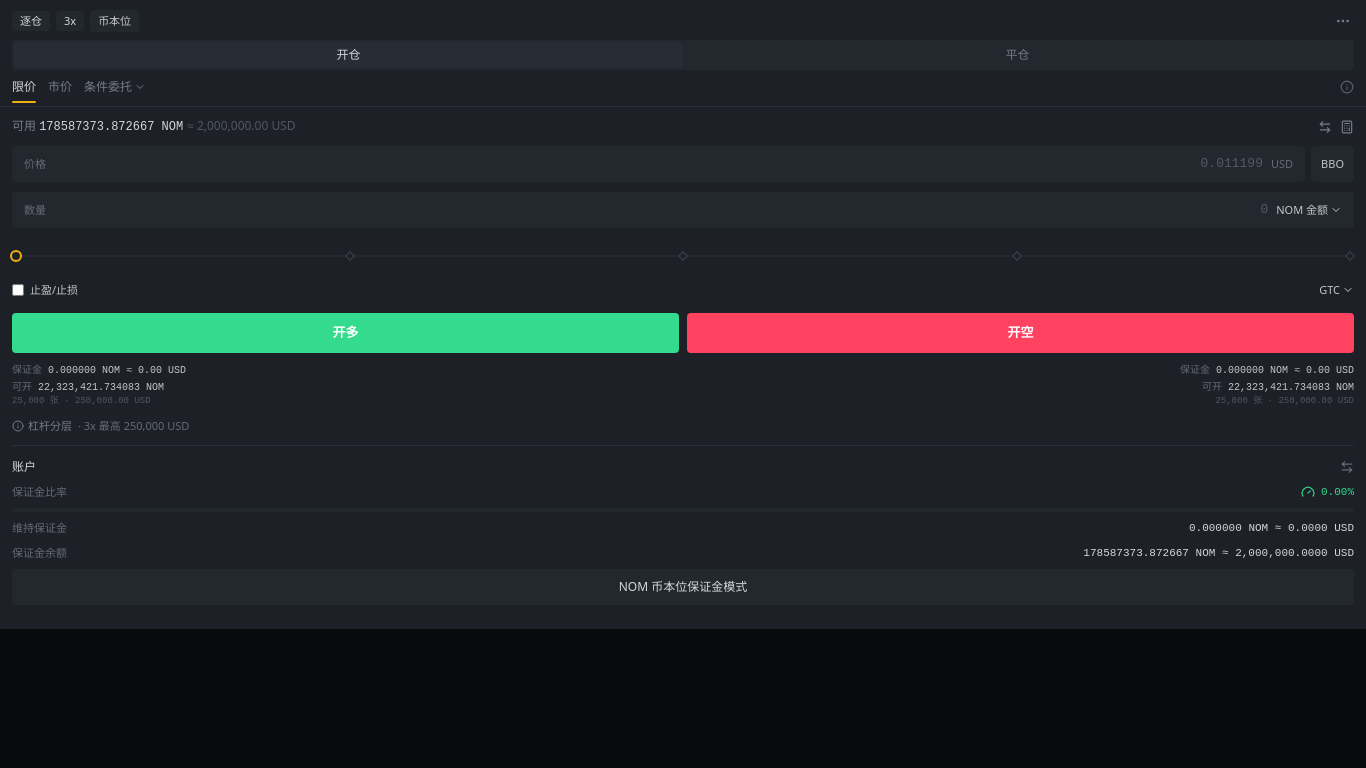
Test: 条件委托按触发价折算 › 【回归】张数按触发价定：3600 币是 3 张，不是市价折出来的 4 张
The width and height of the screenshot is (1366, 768).
Click the button with test id "advanced-type-slot".
click(115, 90)  # box [84,78,146,102]
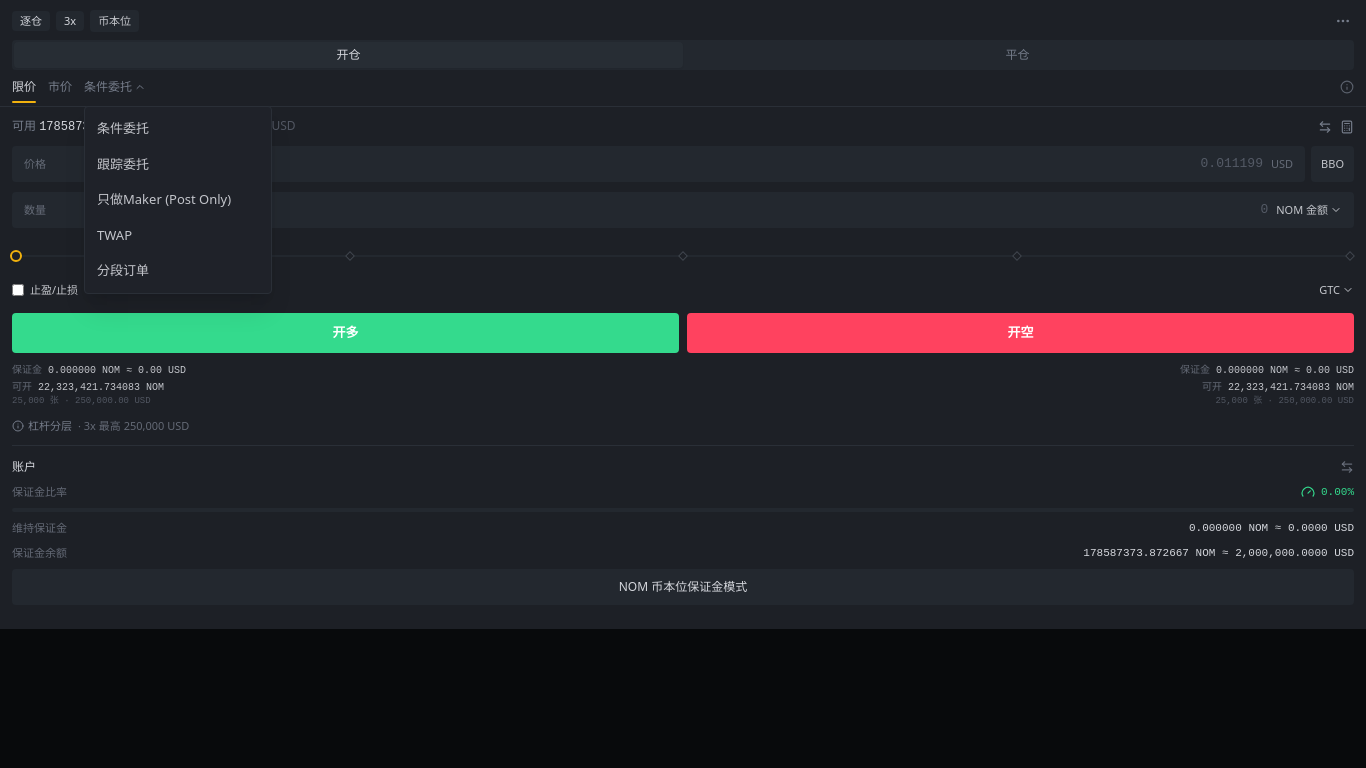
Click the 2nd button "条件委托".
click(178, 129)  # box [85,111,271,146]
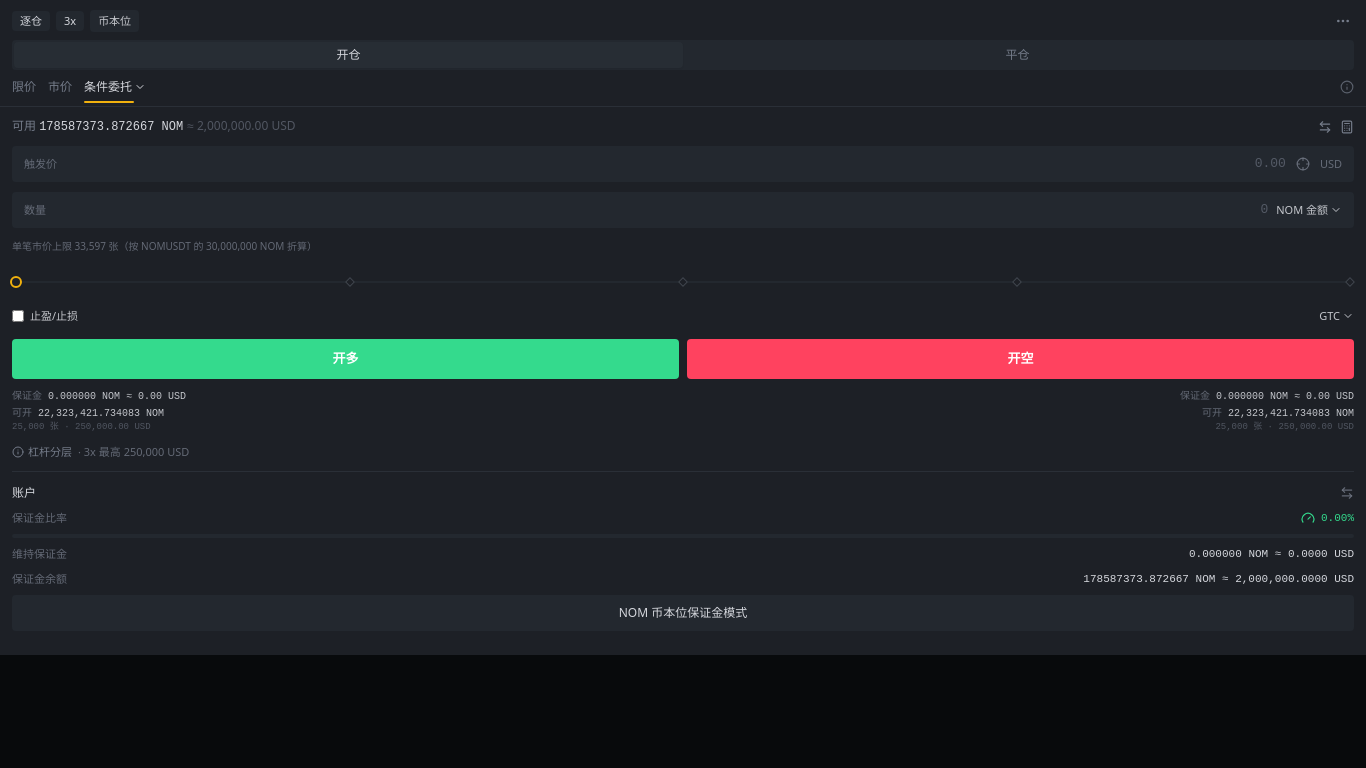
Type "0.010344" into the field with test id "order-trigger-price".
click(675, 164); type("0.010344")  # box [65,154,1286,174]
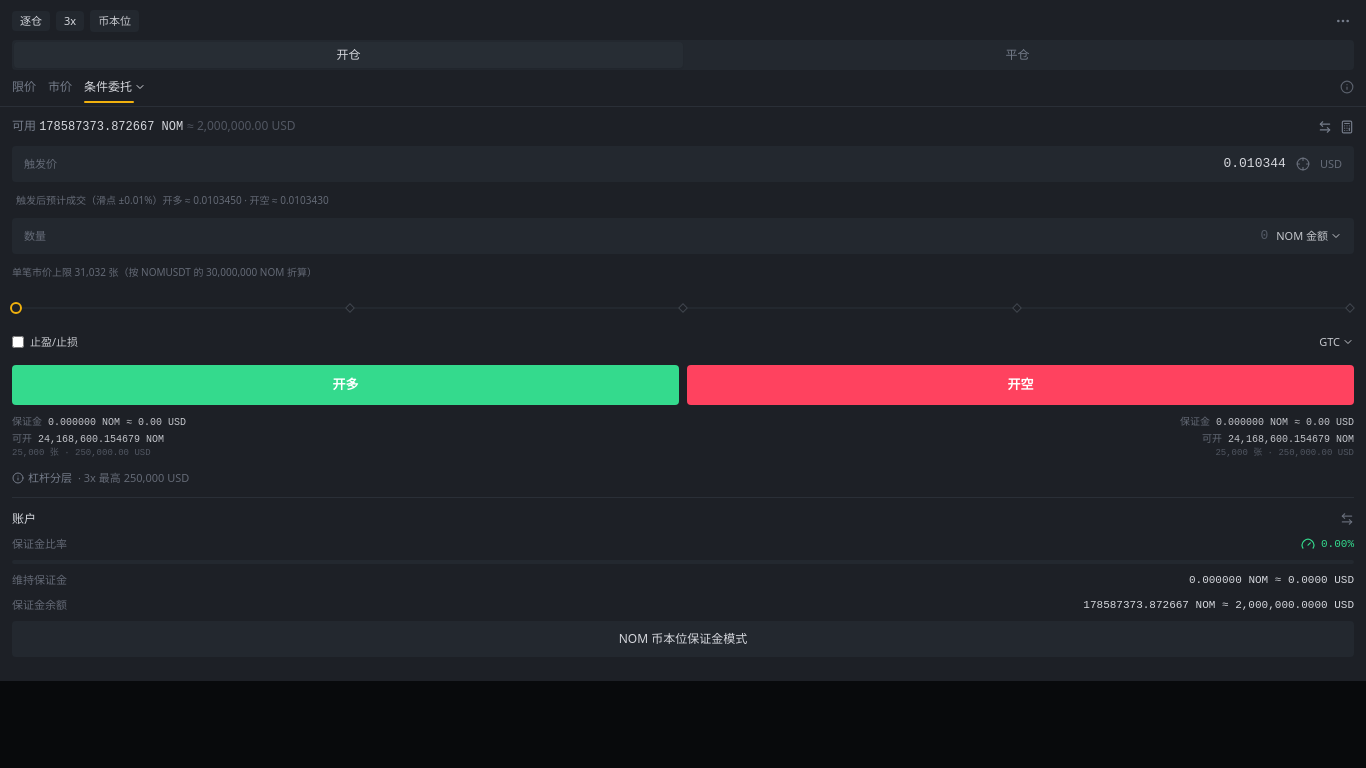
Type "3600" into the field with test id "order-qty-input".
click(661, 236); type("3600")  # box [54,226,1268,246]
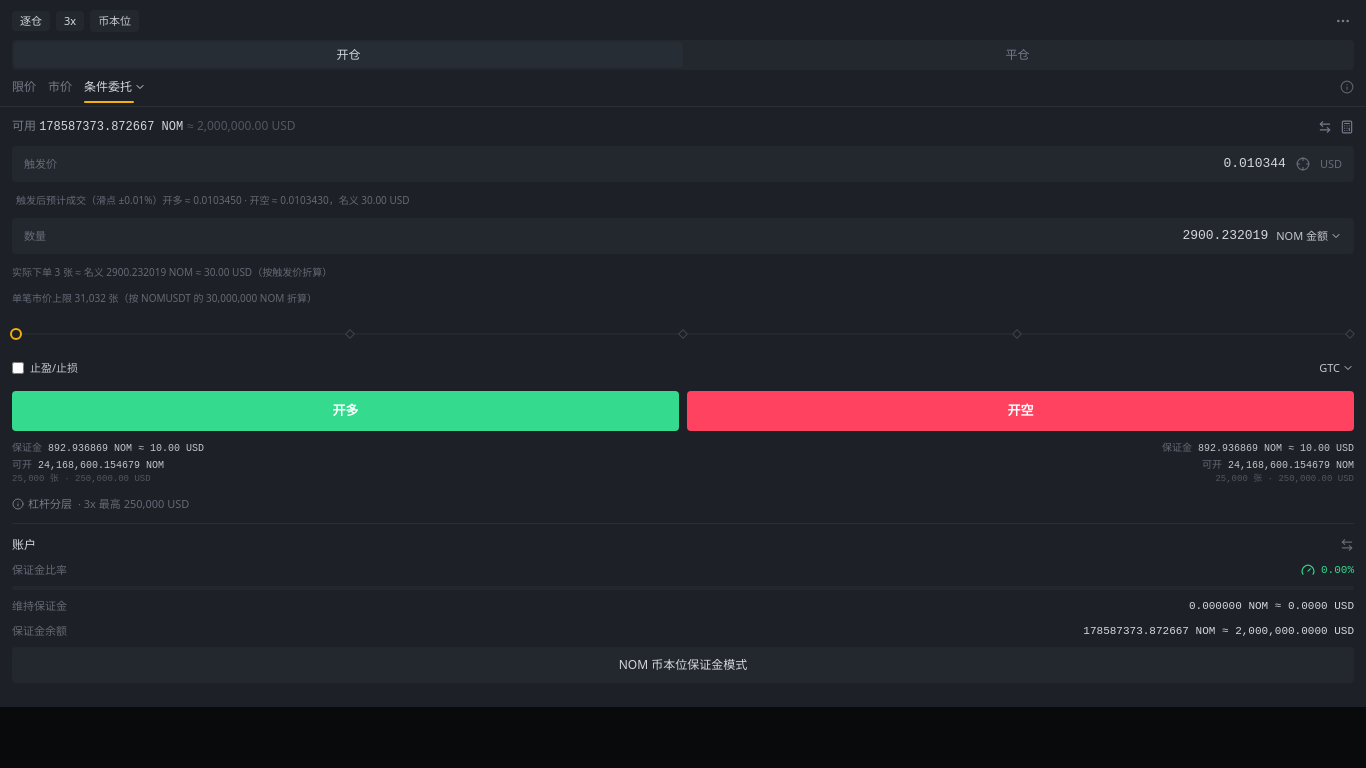
expect the text with test id "coin-effective-qty-hint" shows "实际下单 3 张": met, box [12,265,332,279]
expect the text with test id "coin-effective-qty-hint" shows "2900.232019 NOM": met, box [106,265,193,279]
